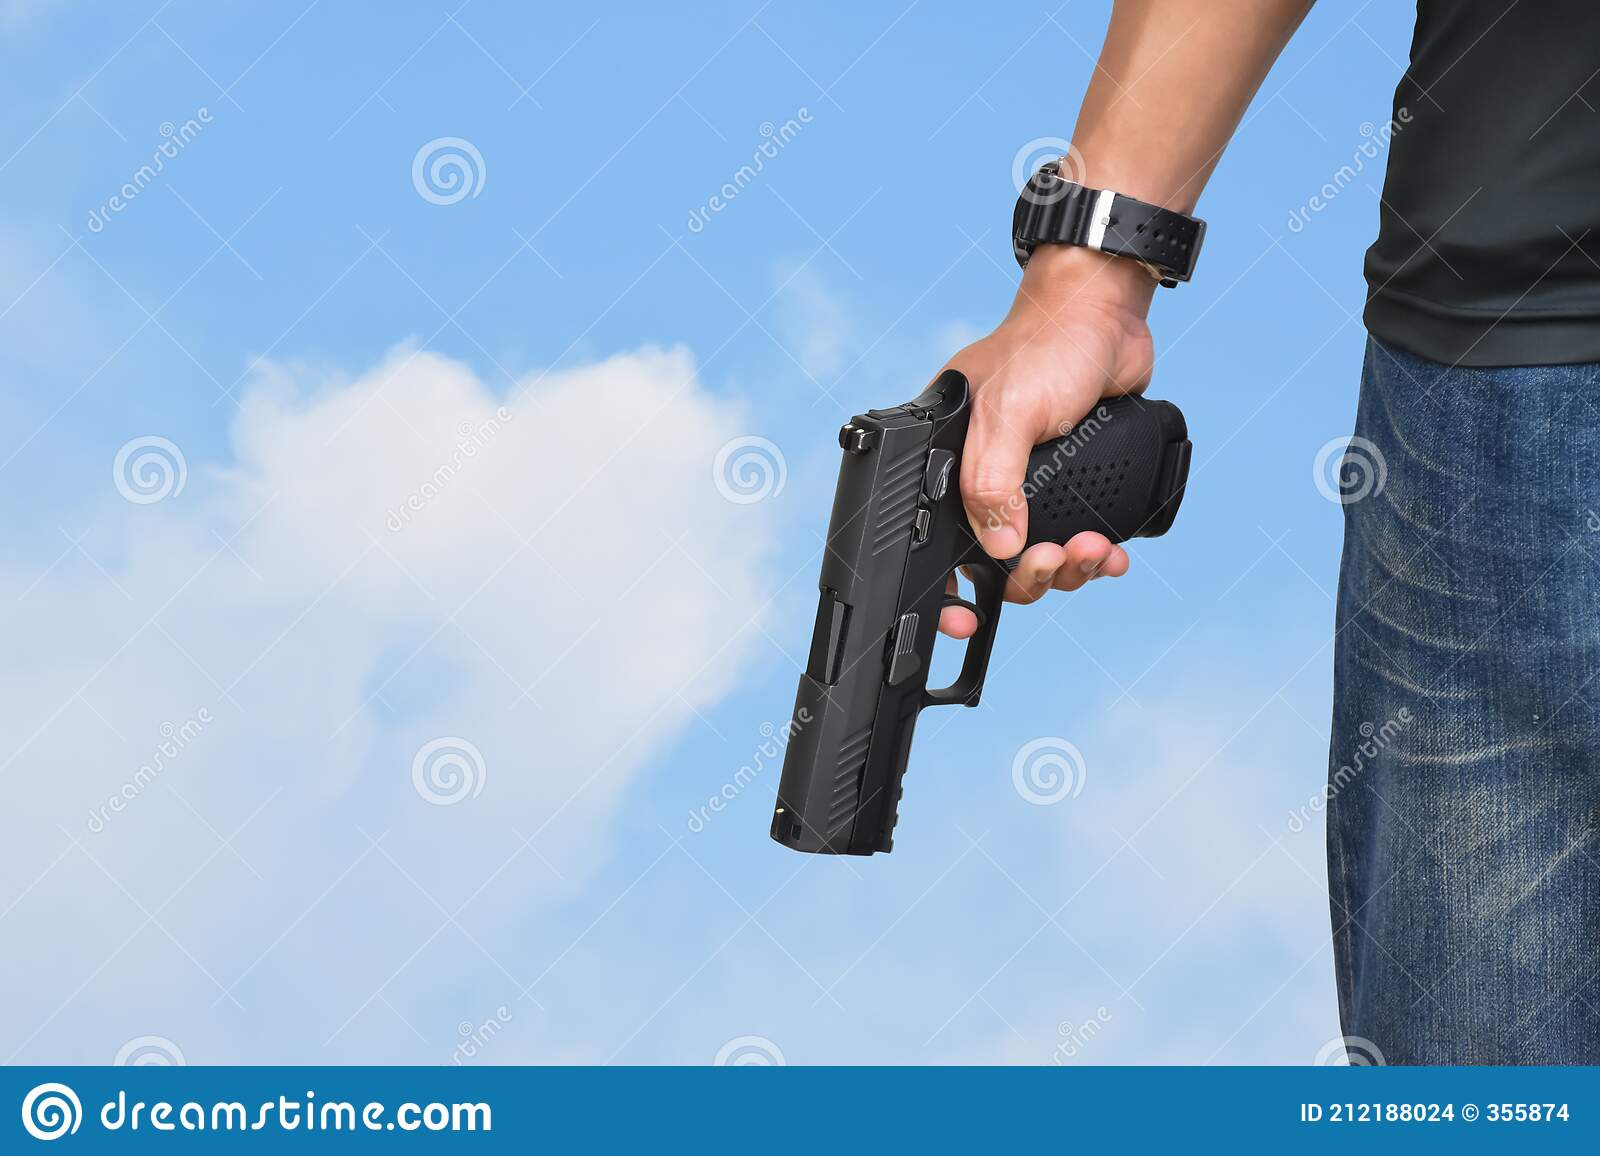gun: (757, 271, 1194, 914)
